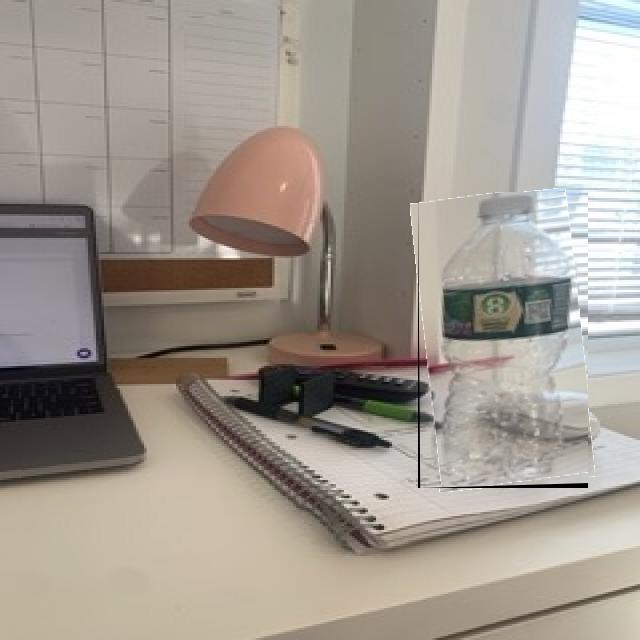water_bottle: (418, 192, 588, 488)
